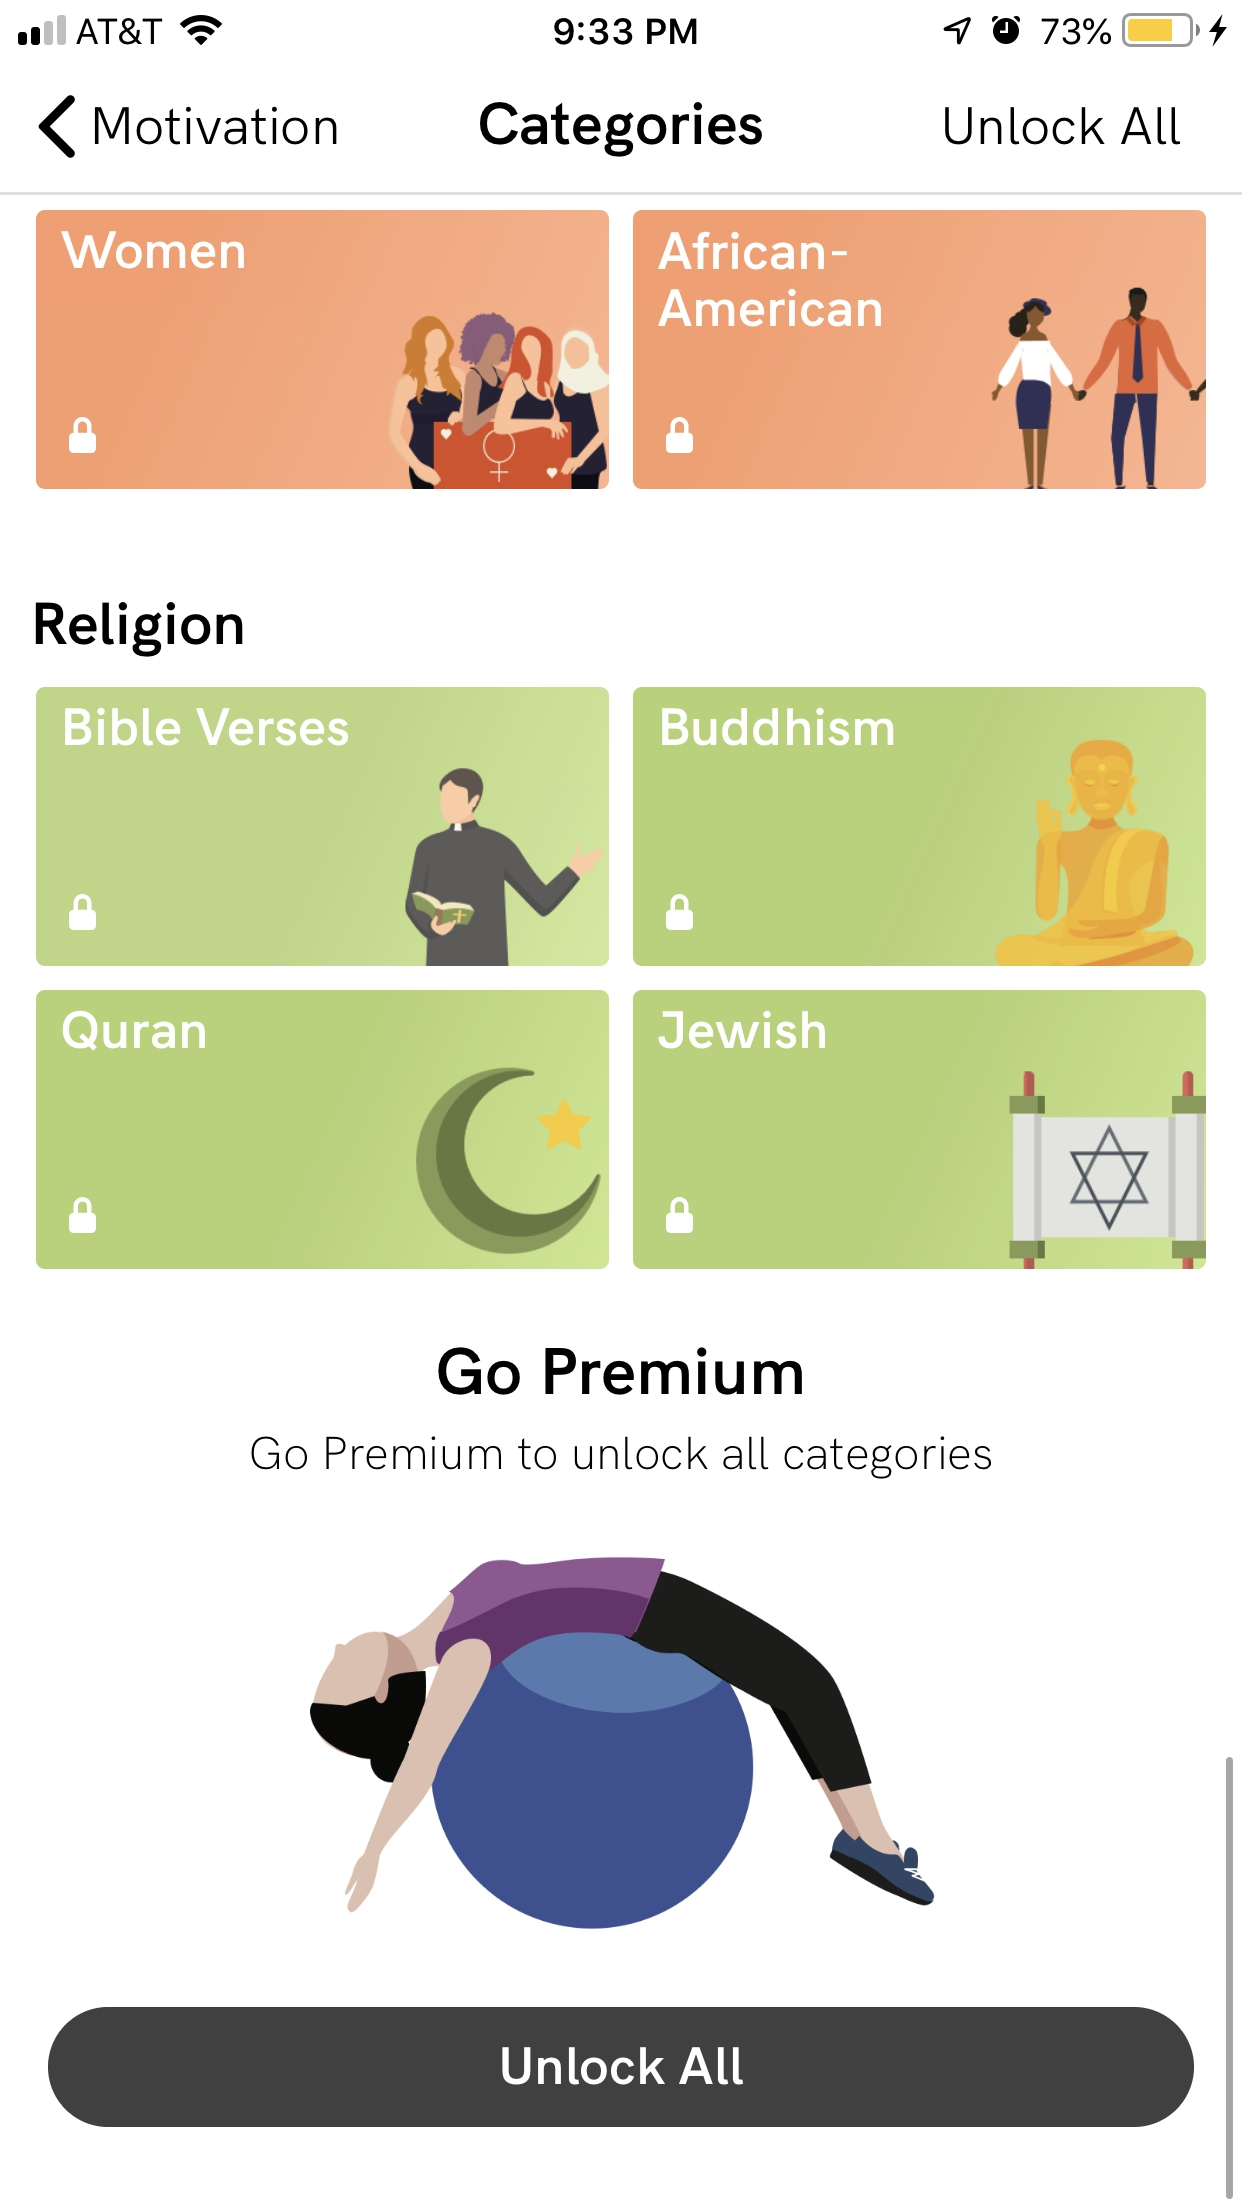Icon: (39, 96, 76, 158), (666, 416, 695, 455), (666, 1197, 695, 1234), (70, 1197, 99, 1234), (70, 895, 99, 933), (666, 895, 695, 933), (70, 417, 99, 455)
Image: (309, 1556, 936, 1930), (996, 740, 1193, 966), (990, 288, 1206, 488), (403, 769, 602, 968), (1008, 1071, 1207, 1269), (388, 312, 610, 490), (416, 1066, 602, 1256)
Text: (252, 1435, 992, 1480), (657, 232, 883, 328), (438, 1347, 804, 1397), (481, 105, 764, 158), (36, 601, 246, 658), (65, 707, 350, 748), (943, 106, 1183, 149), (96, 106, 338, 146), (661, 707, 895, 748), (61, 231, 246, 270), (658, 1010, 826, 1049), (64, 1010, 206, 1052)
TextButton: (47, 2006, 1195, 2128)
UpperTaskBar: (2, 2, 1242, 49)
